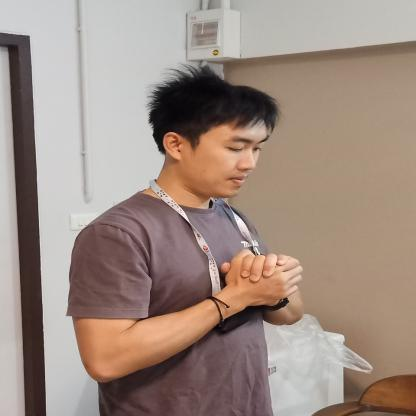Grieve: (167, 220, 347, 325)
